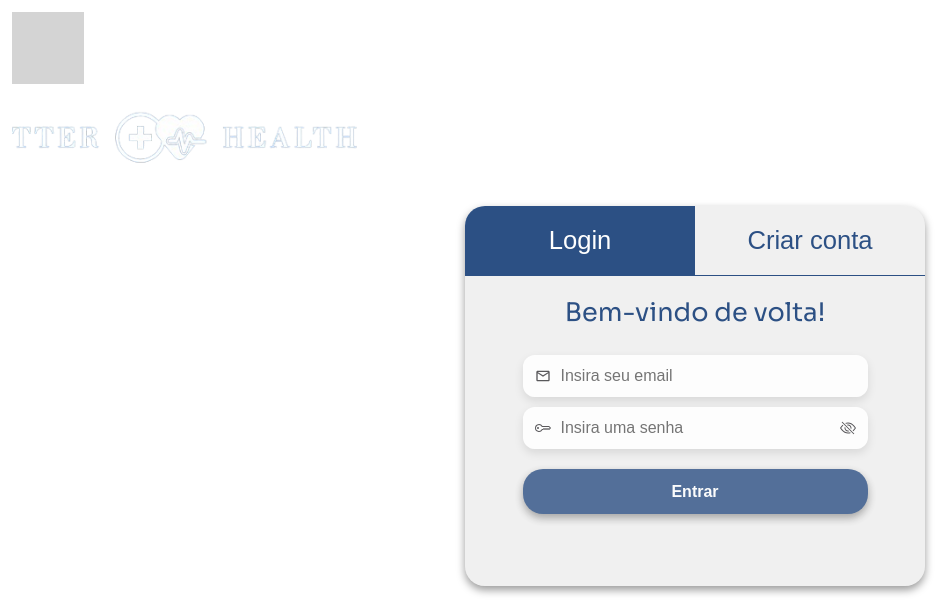
Test: AuthenticationView Component › should toggle to sign up form when clicking "Criar conta"
Click the button "Criar conta".
click(810, 240)  # box 695,206 -> 925,275
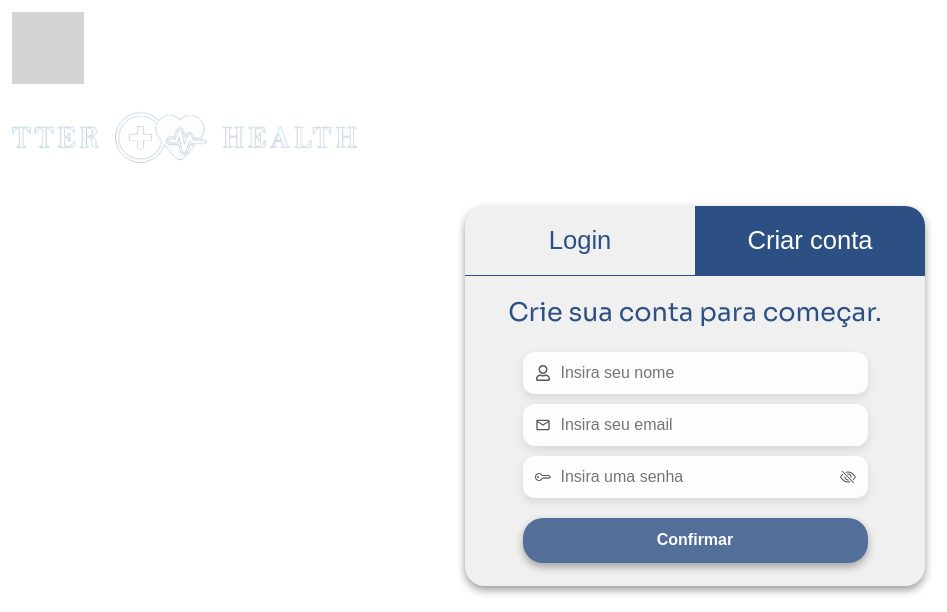
Now the heading "Crie sua conta para começar." is shown, box 508,296 -> 882,328
Now the field with placeholder "Insira seu nome" is shown, box 560,364 -> 856,382
Now the password field with placeholder "Insira uma senha" is shown, box 560,468 -> 830,486
